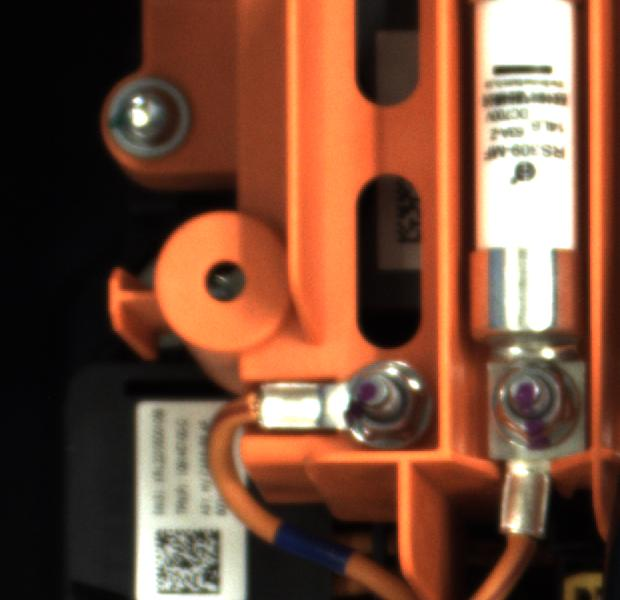screw_m: (100, 75, 208, 166)
screw_s: (321, 356, 434, 447), (483, 356, 586, 447)
